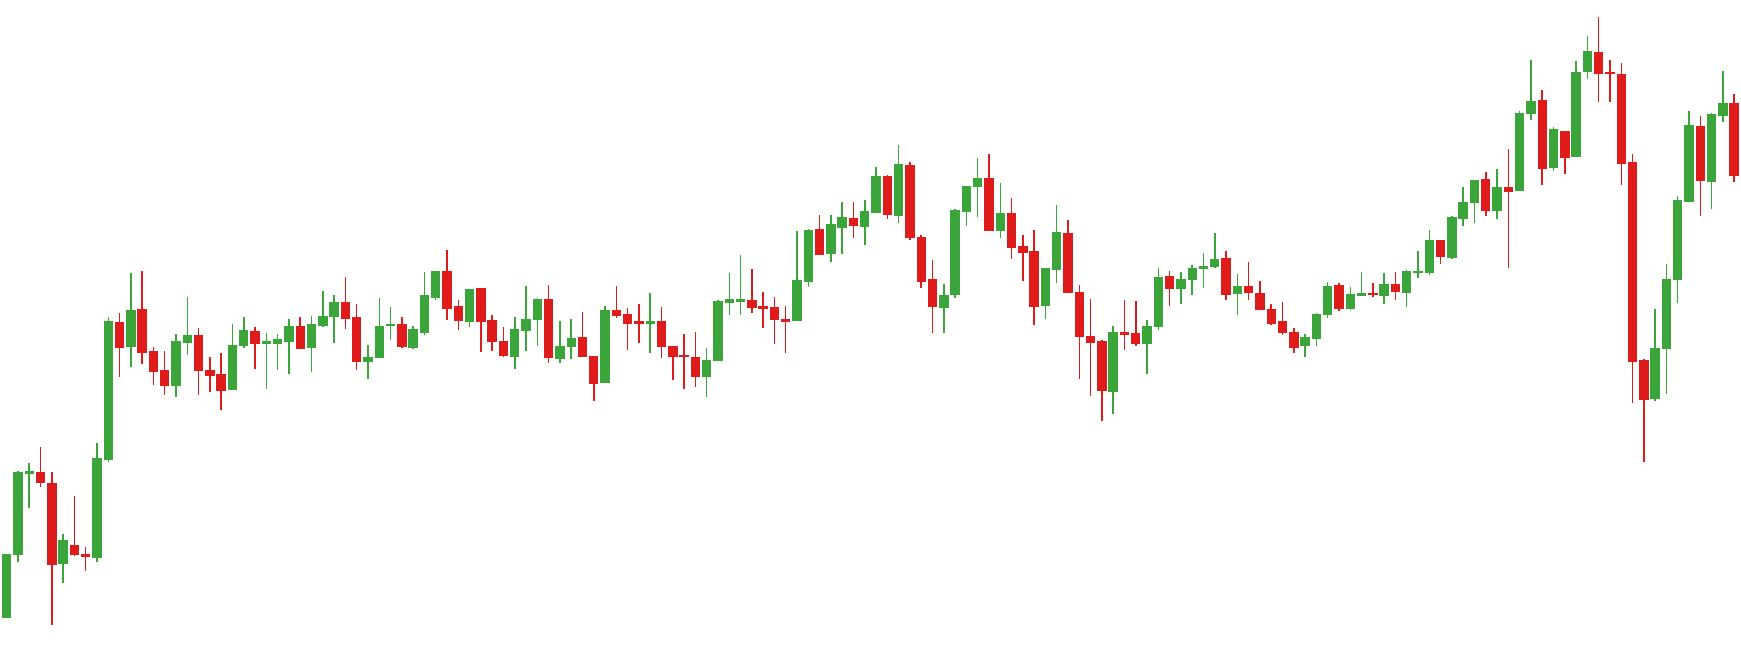buy: (1285, 196, 1660, 460), (766, 250, 1121, 422), (507, 317, 613, 408), (157, 342, 240, 407)
sell: (340, 252, 454, 341), (1523, 16, 1603, 132)
